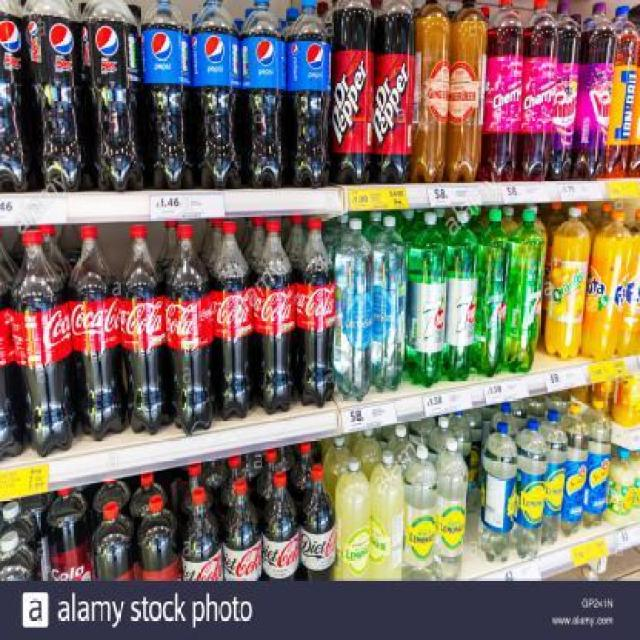Drinks: (9, 231, 68, 457), (69, 226, 125, 440), (25, 0, 83, 194), (82, 0, 140, 192), (140, 0, 195, 191), (166, 226, 214, 437), (119, 224, 166, 436), (192, 0, 240, 191), (242, 0, 288, 189), (286, 1, 331, 188), (581, 208, 633, 364), (214, 222, 254, 420), (256, 218, 296, 416), (332, 0, 374, 186), (296, 217, 336, 409), (0, 0, 39, 192), (374, 2, 414, 185), (503, 209, 546, 374), (408, 212, 448, 388), (475, 210, 510, 378), (447, 210, 479, 381), (262, 471, 300, 580), (301, 462, 336, 580), (181, 486, 224, 580), (223, 477, 262, 580)
